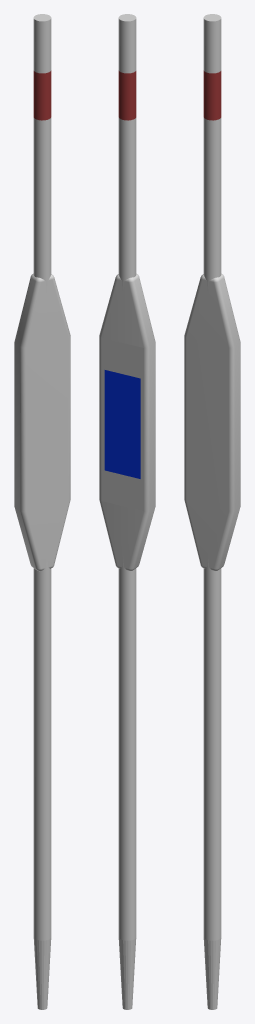
3 renders of one model, left to right at view 1: azimuth 30°, elevation 25°; view 2: azimuth 150°, elevation 25°; view 3: azimuth 330°, elevation 25°, orthographic.
Parts seen in each view (by area): view 1: pCube1, pCylinder1; view 2: pCube1, pCylinder1; view 3: pCube1, pCylinder1.
Boxes of the visible parts, x1,y1,x2,y2 form: pCube1: (14,273,70,571); pCylinder1: (33,14,51,1009); pCube1: (99,273,155,571); pCylinder1: (118,14,136,1009); pCube1: (184,273,240,571); pCylinder1: (203,14,221,1009).
Size of the model in its own units: 0.01 by 0.1896 by 0.00333.
